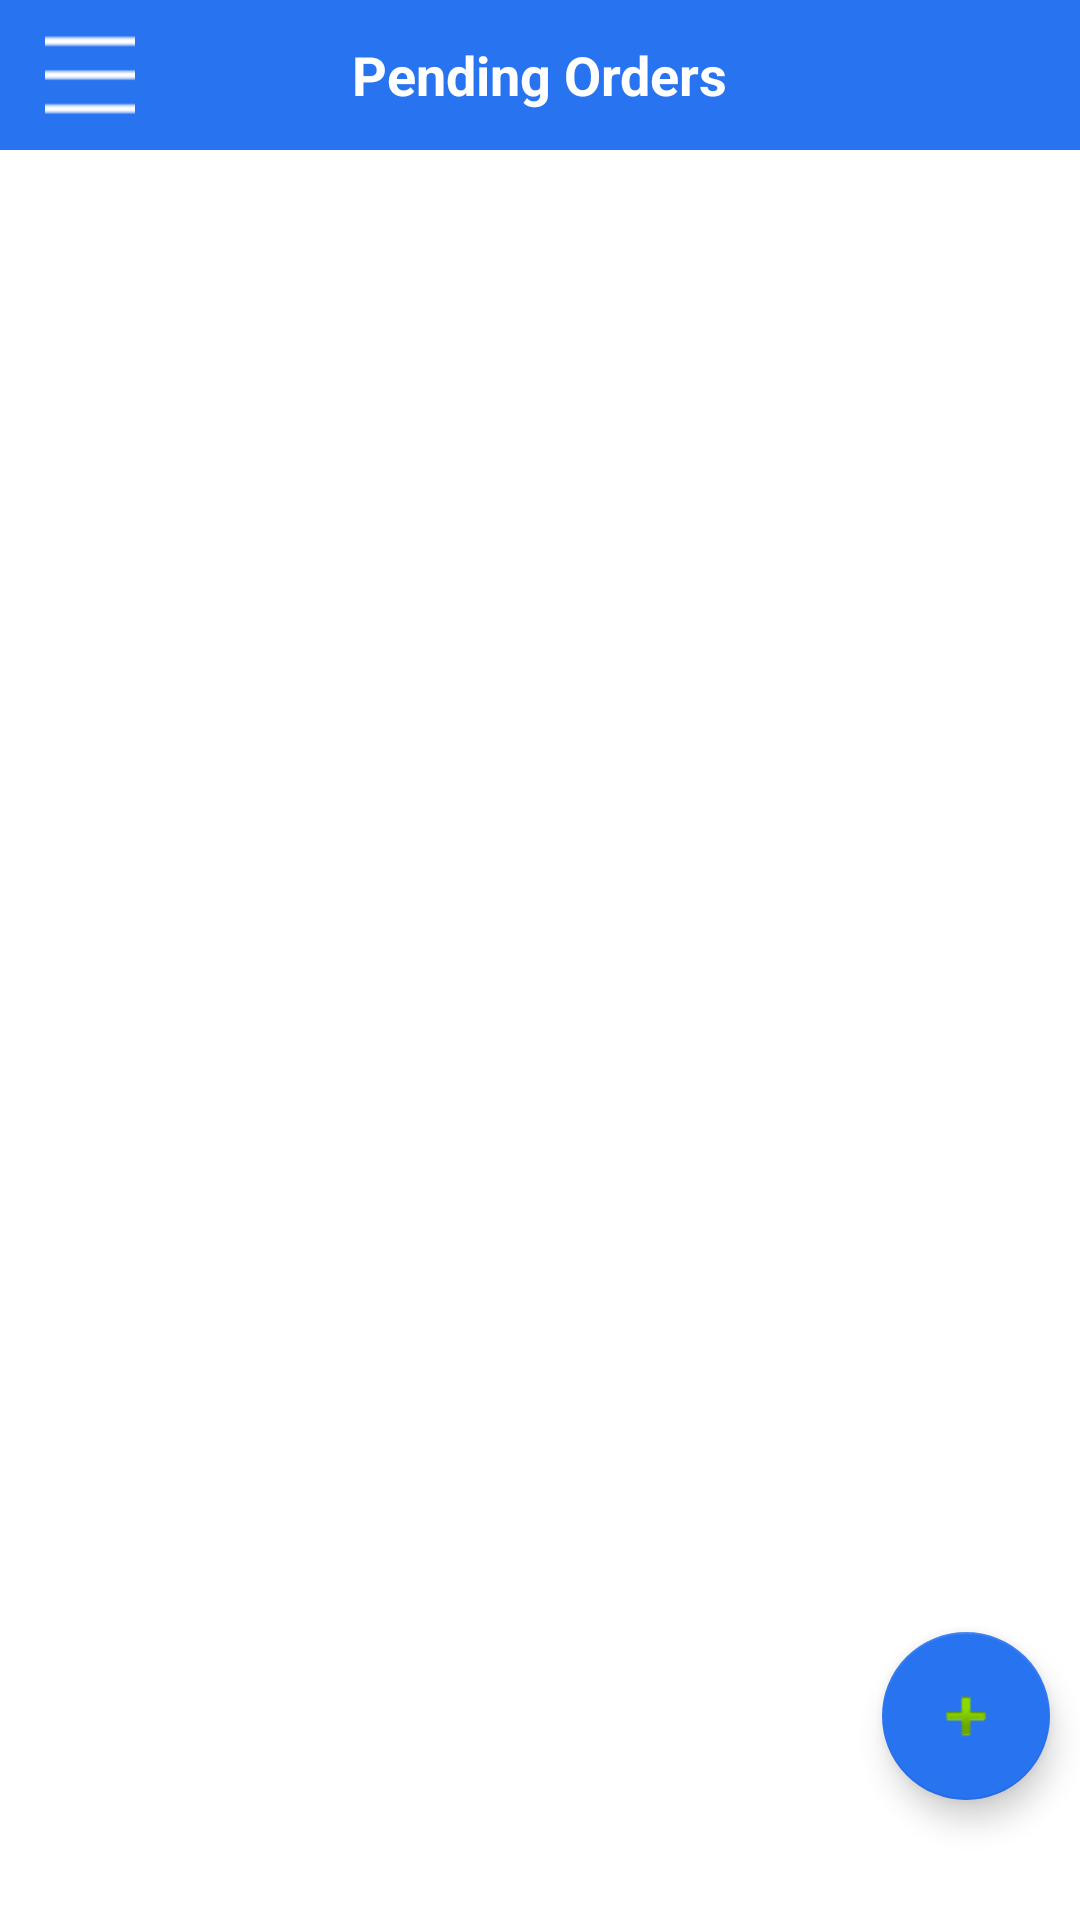

Where icons sit on this 1080w x 1920h app screen, as (x1, y1, x2, y2):
add: (882, 1632, 1050, 1800)
menu: (45, 36, 135, 114)
